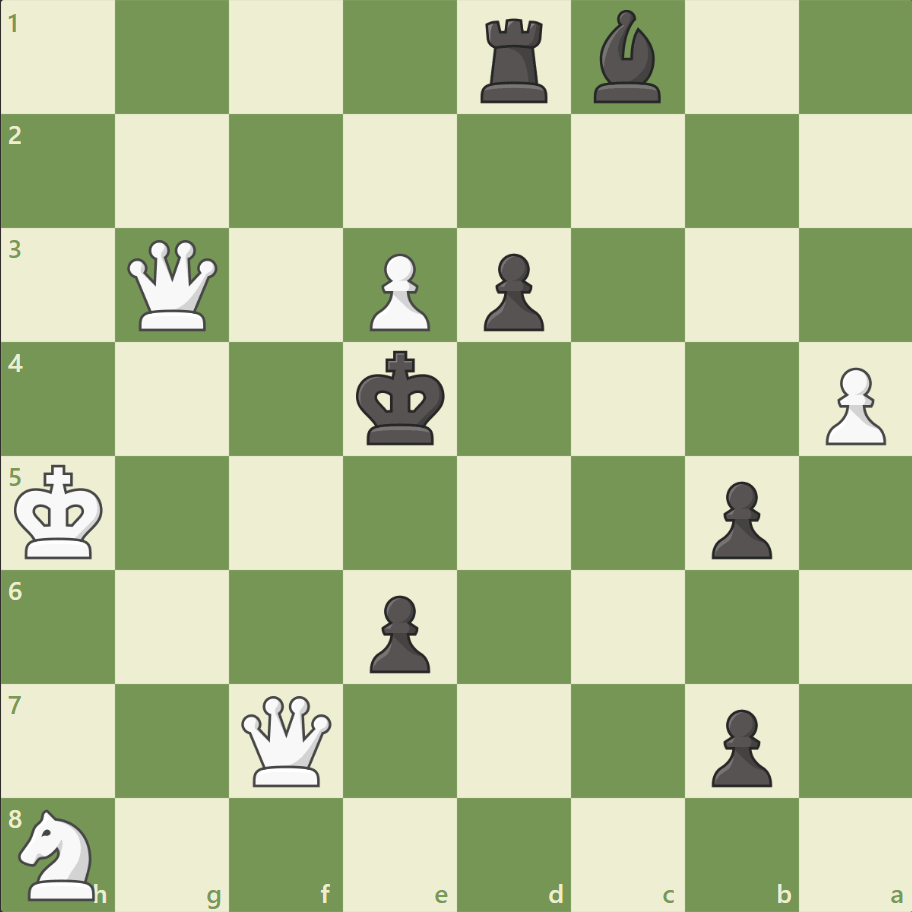K: (11, 458, 111, 566)
N: (11, 802, 108, 904)
P: (815, 359, 889, 450), (361, 246, 435, 337)
Q: (237, 690, 336, 789), (124, 236, 223, 335)
b: (585, 6, 669, 109)
k: (351, 344, 451, 452)
p: (701, 700, 776, 791), (701, 473, 776, 564), (474, 246, 549, 337), (361, 586, 435, 677)
r: (473, 12, 556, 109)
